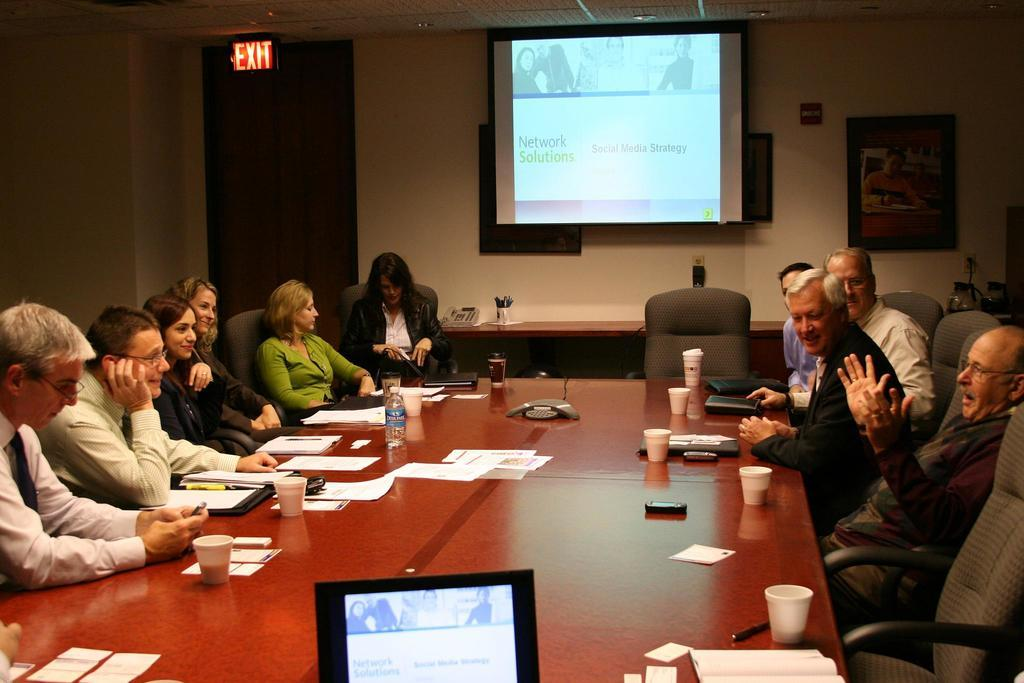Chair: (625, 286, 760, 380)
Computer-monitor: (481, 18, 752, 235), (312, 567, 540, 681)
